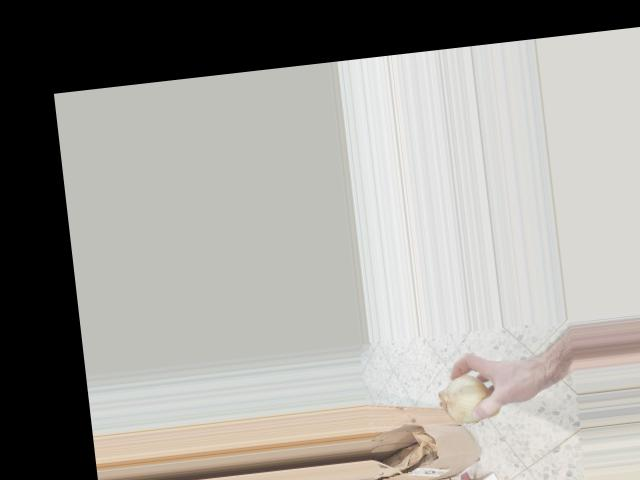onion: (434, 365, 507, 431)
